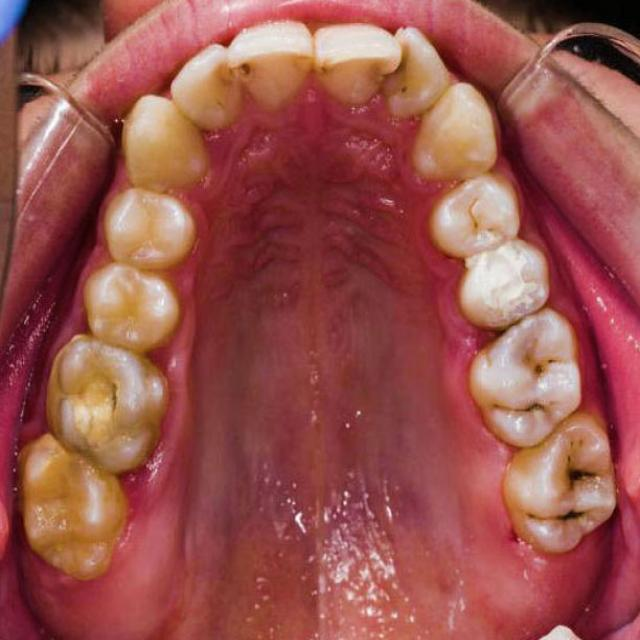caries: (546, 438, 607, 506), (483, 380, 554, 430), (524, 340, 578, 395), (522, 492, 590, 534), (450, 184, 498, 243), (368, 44, 419, 99), (211, 49, 259, 91)
